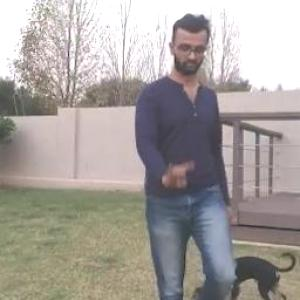takeoff-hand: (155, 157, 198, 198)
